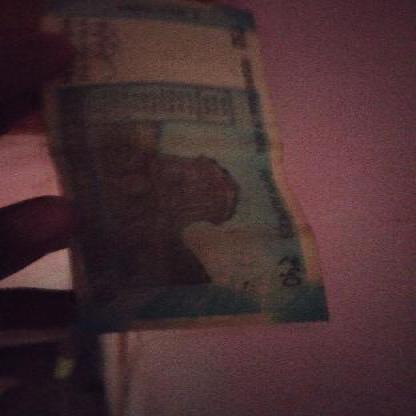New50Back: (35, 0, 330, 326)
